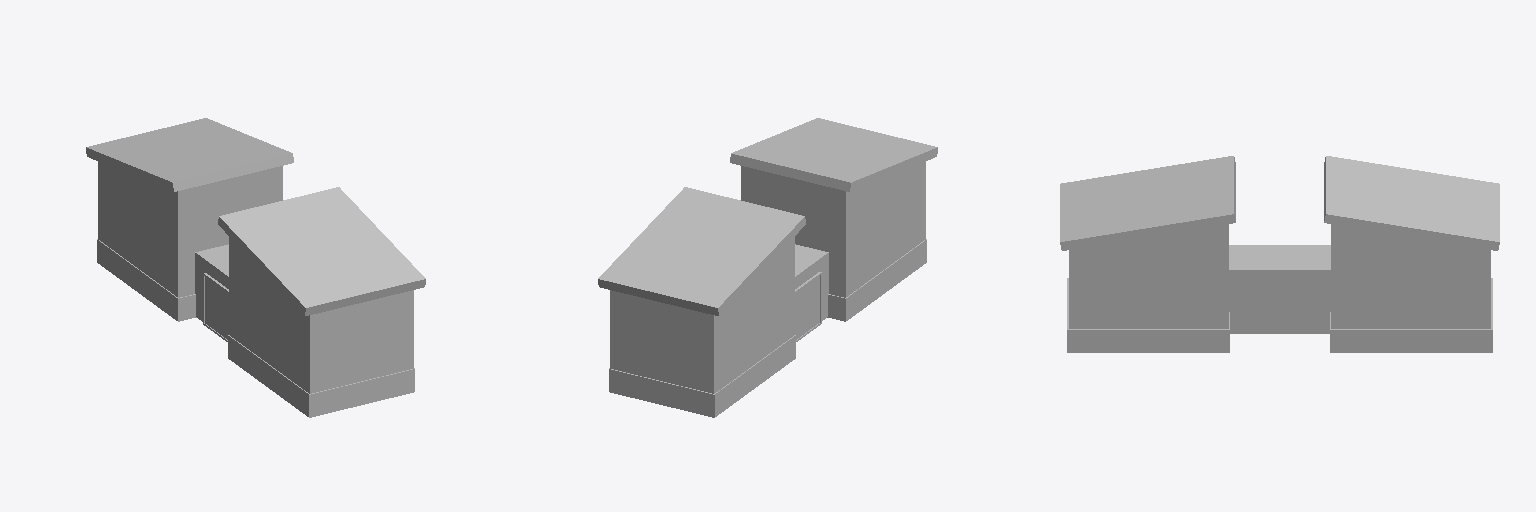
Rendered from BigSchool_Level1.obj.
The picture shows the model from 3 angles: view 1: azimuth 30°, elevation 25°; view 2: azimuth 150°, elevation 25°; view 3: azimuth 270°, elevation 25°; orthographic projection.
Visible parts, largest first — view 1: Box187, Box188, Box184, Box185; view 2: Box188, Box187, Box184, Box185; view 3: Box188, Box187, Box185.
Boxes of the visible parts, x1,y1,x2,y2 form: Box187: [218, 187, 425, 417]; Box188: [86, 118, 293, 321]; Box184: [203, 273, 228, 341]; Box185: [195, 244, 228, 321]; Box188: [598, 187, 805, 417]; Box187: [730, 118, 937, 321]; Box184: [795, 272, 821, 341]; Box185: [795, 244, 828, 320]; Box188: [1324, 156, 1499, 352]; Box187: [1060, 156, 1235, 352]; Box185: [1229, 245, 1330, 333].
Bounding box in the file's own units: 443 × 502 × 1405.